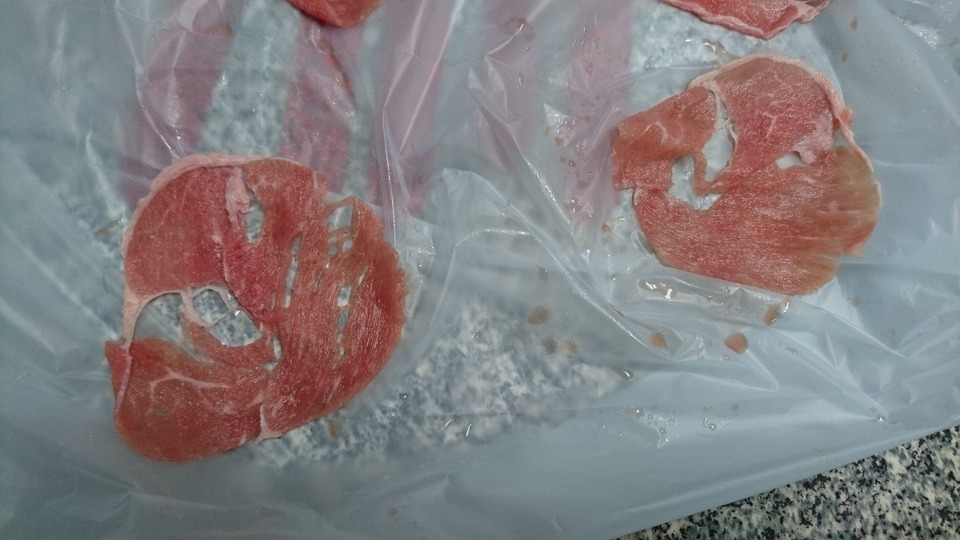restructured meat: (109, 172, 417, 448), (617, 54, 888, 315)
